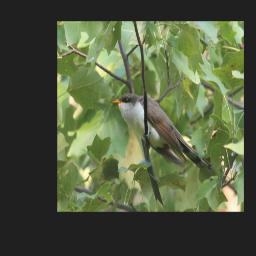Cuckoo: (113, 90, 216, 171)
